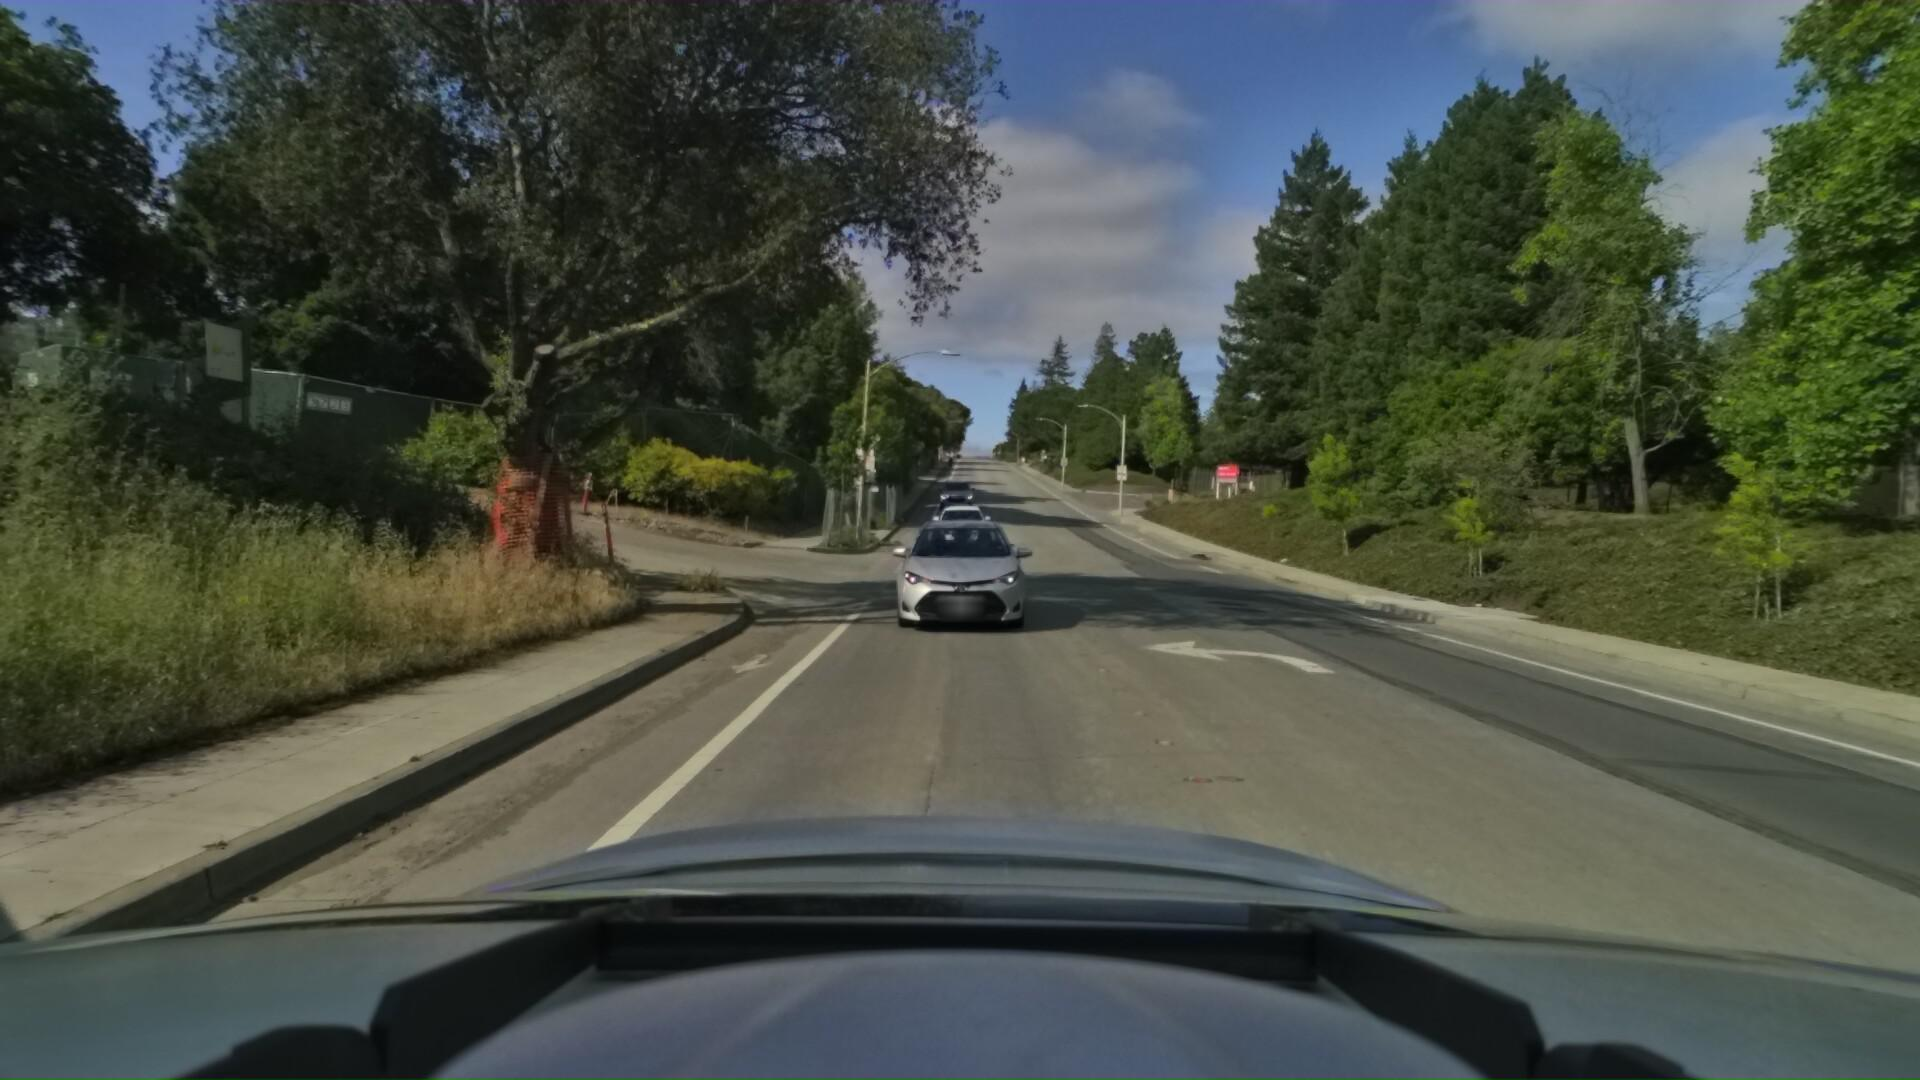car: (884, 504, 1030, 638), (930, 498, 989, 551), (934, 476, 972, 510)
